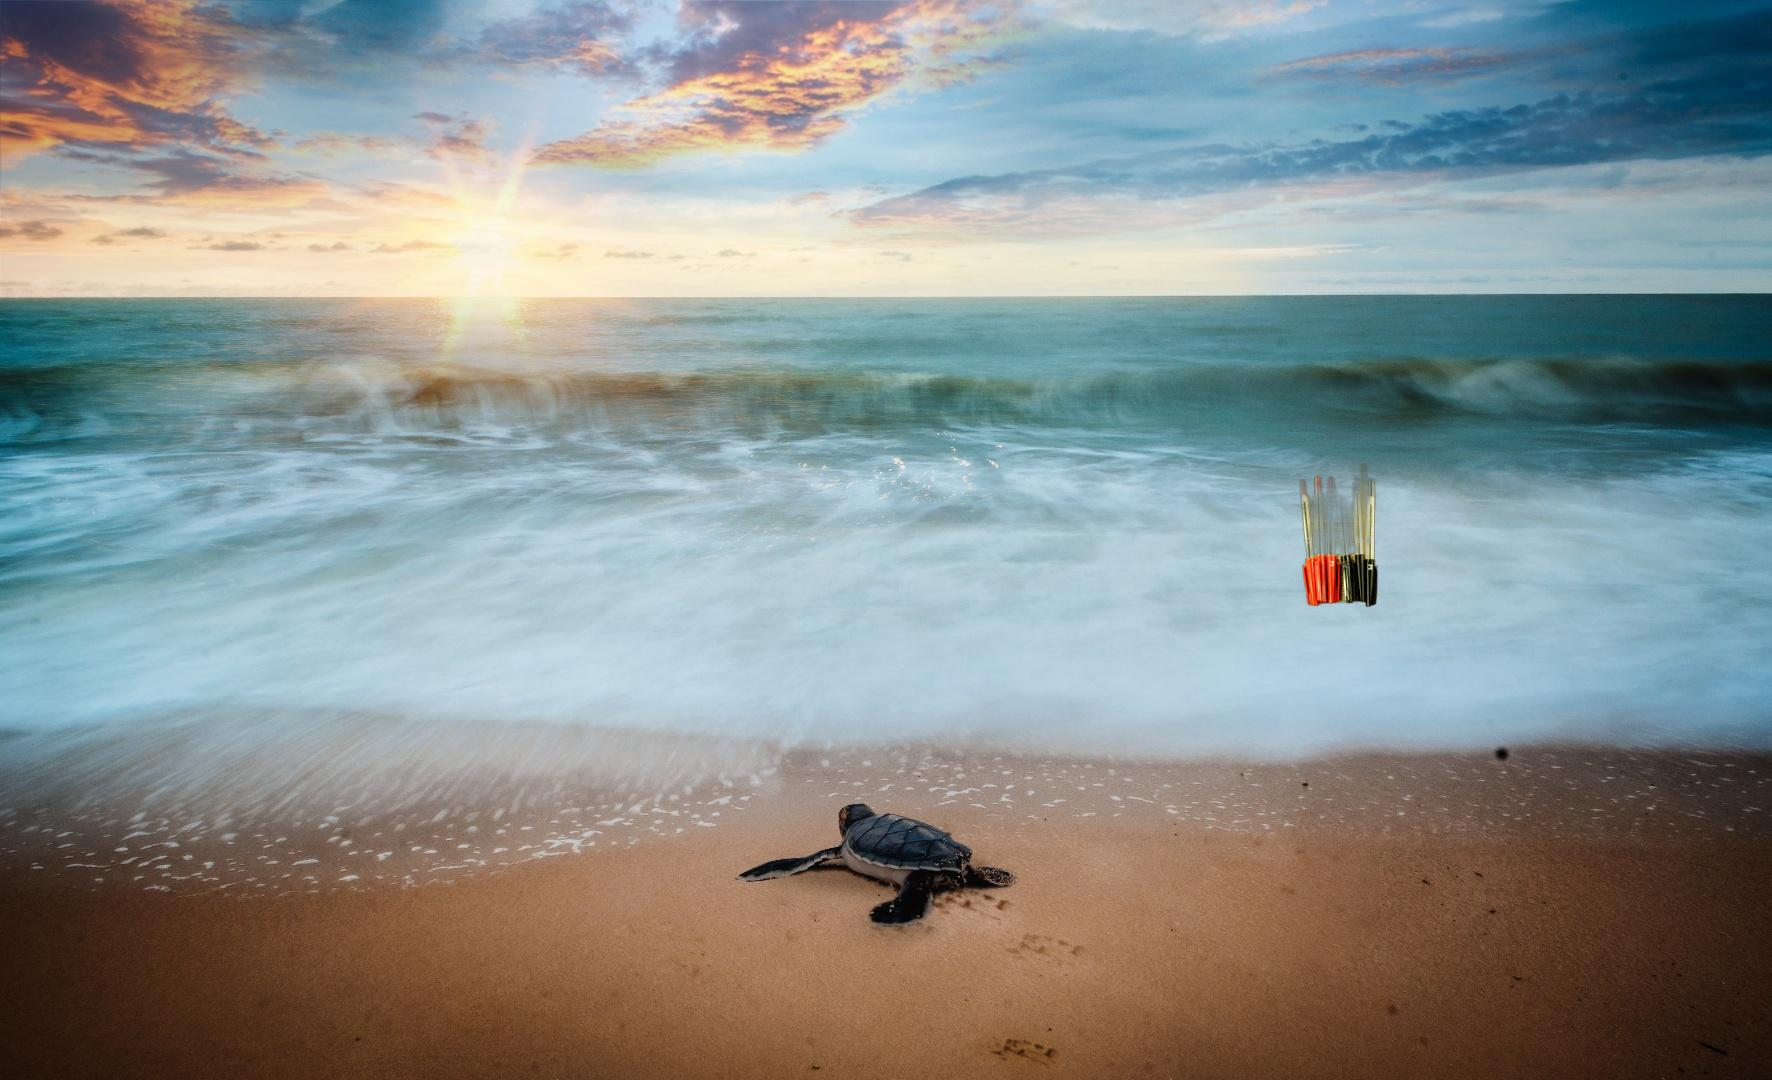penholder: (1295, 463, 1413, 612)
